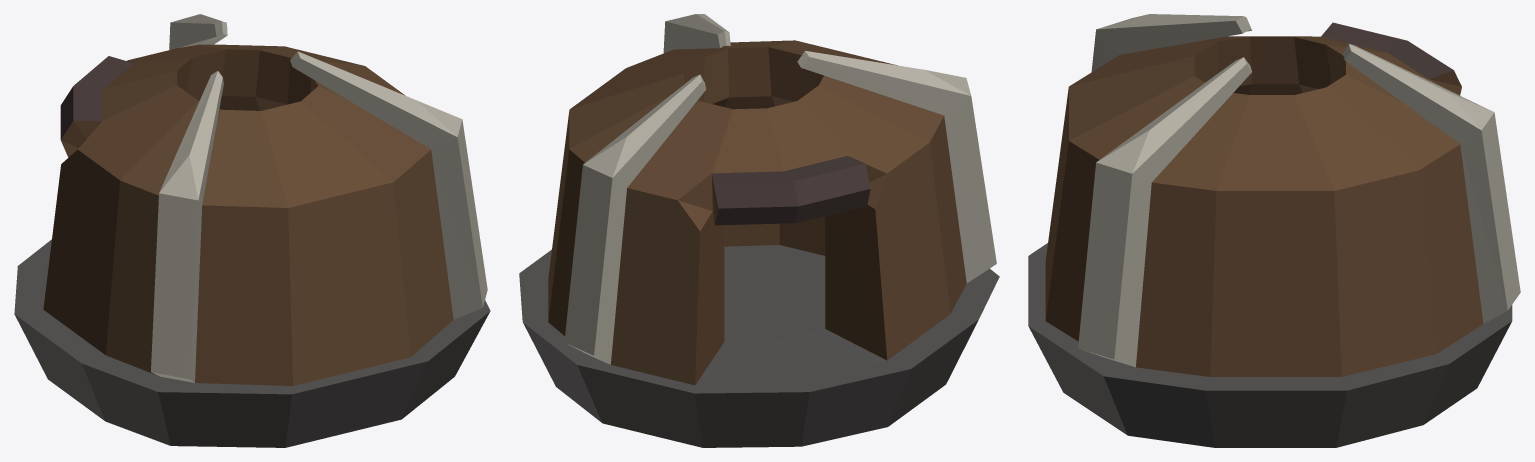
The model's file is hut3.fbx.
The picture shows the model from 3 angles, left to right: view 1: azimuth 30°, elevation 25°; view 2: azimuth 150°, elevation 25°; view 3: azimuth 270°, elevation 25°; orthographic projection. The views are drawn at different scales.
Visible parts, largest first — view 1: hut3; view 2: hut3; view 3: hut3.
Boxes of the visible parts, <box> form: hut3: <box>14,14,490,447</box>; hut3: <box>519,14,999,447</box>; hut3: <box>1028,14,1520,447</box>.
Size of the model in its own units: 7 by 5.34 by 7.31.
